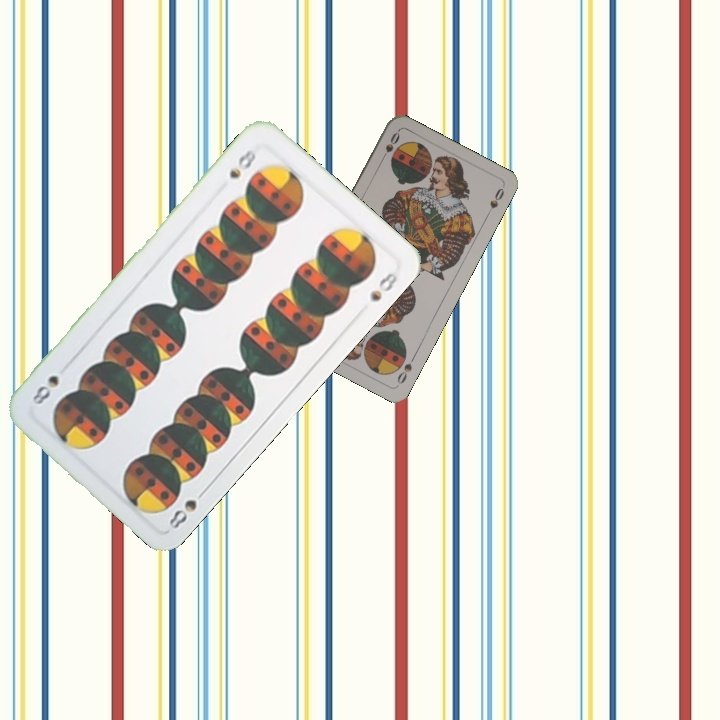S8: (164, 483, 211, 532), (225, 145, 259, 182)
SO: (376, 128, 403, 165), (393, 350, 418, 387)
